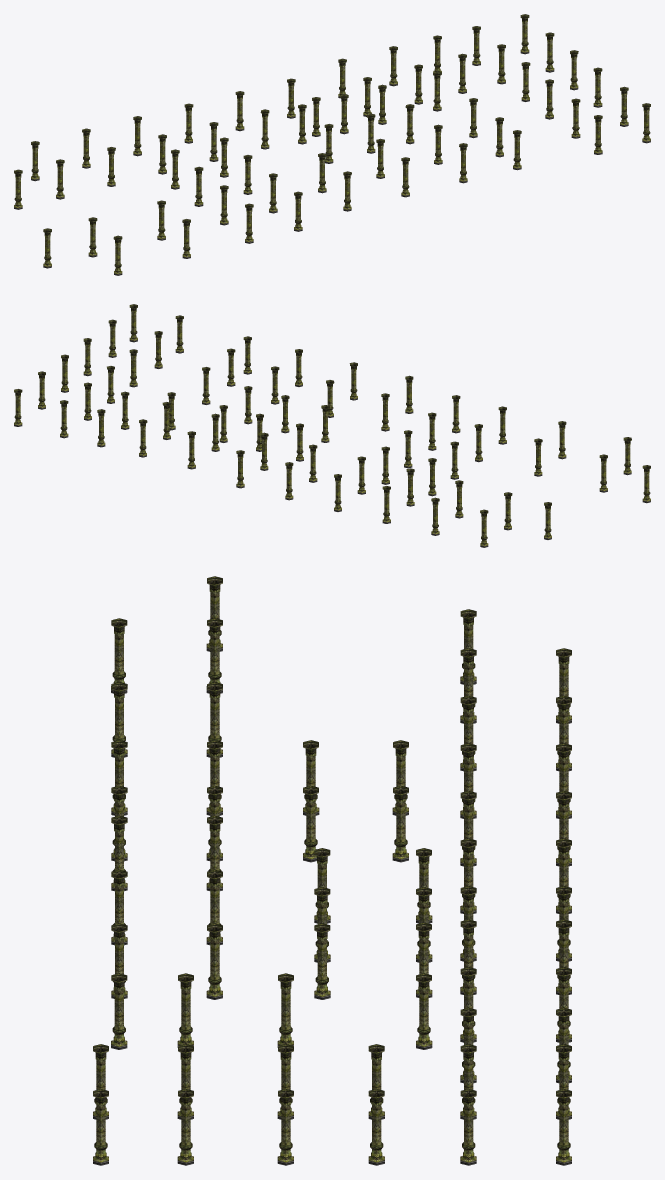
The model's file is Under_City_Hallway_1_wall03.FBX.
The picture shows the model from 3 angles, top to bottom: view 1: azimuth 30°, elevation 25°; view 2: azimuth 150°, elevation 25°; view 3: azimuth 270°, elevation 25°; orthographic projection. The views are drawn at different scales.
Parts seen in each view (by area): view 1: Object003; view 2: Object003; view 3: Object003.
Part boxes in pixels (left/top/right/bottom): Object003: left=14, top=14, right=650, bottom=275; Object003: left=14, top=304, right=650, bottom=547; Object003: left=93, top=576, right=571, bottom=1165.
Size of the model in its own units: 9319 by 685 by 3518.
1 material, 1 textured.
